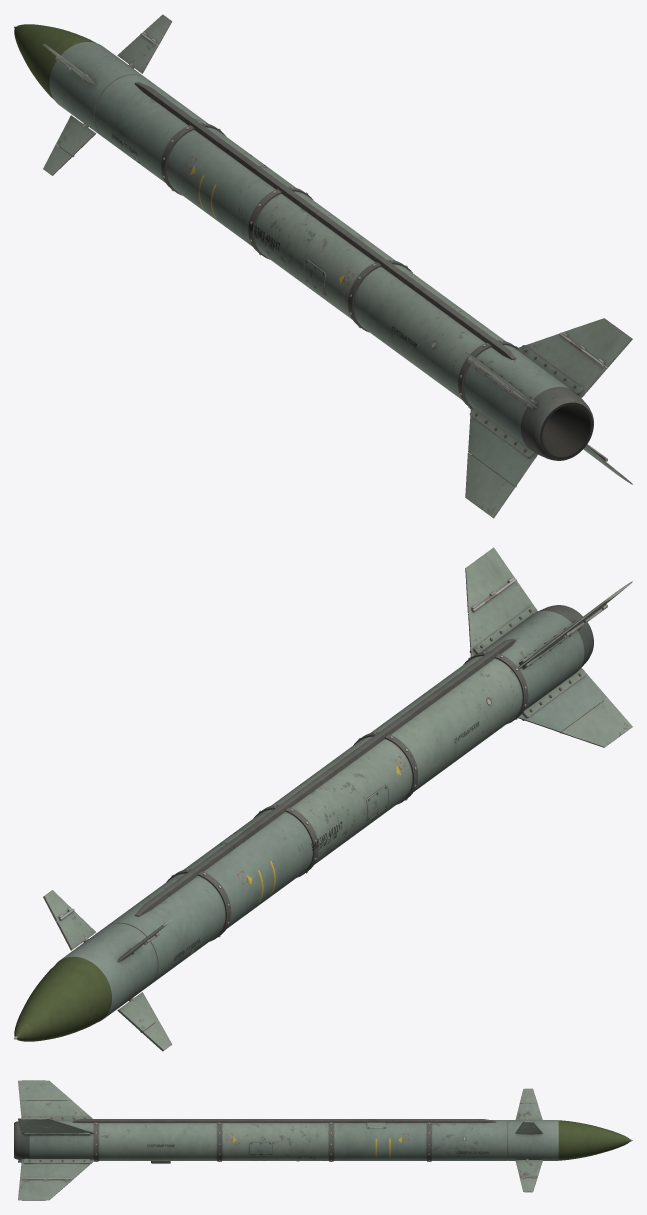
File: msl_osa.glb
3 views of the same model, one above another, from view 1: azimuth 30°, elevation 25°; view 2: azimuth 150°, elevation 25°; view 3: azimuth 270°, elevation 25° (orthographic). The views are drawn at different scales.
Visible parts, largest first — view 1: body|O9_paint; view 2: body|O9_paint; view 3: body|O9_paint.
Boxes of the visible parts, x1,y1,x2,y2 form: body|O9_paint: (14,14,632,518); body|O9_paint: (14,547,632,1051); body|O9_paint: (14,1080,632,1200).
Bounding box in the file's own units: 0.4653 × 0.4653 × 3.16.
1 material, 1 textured.
